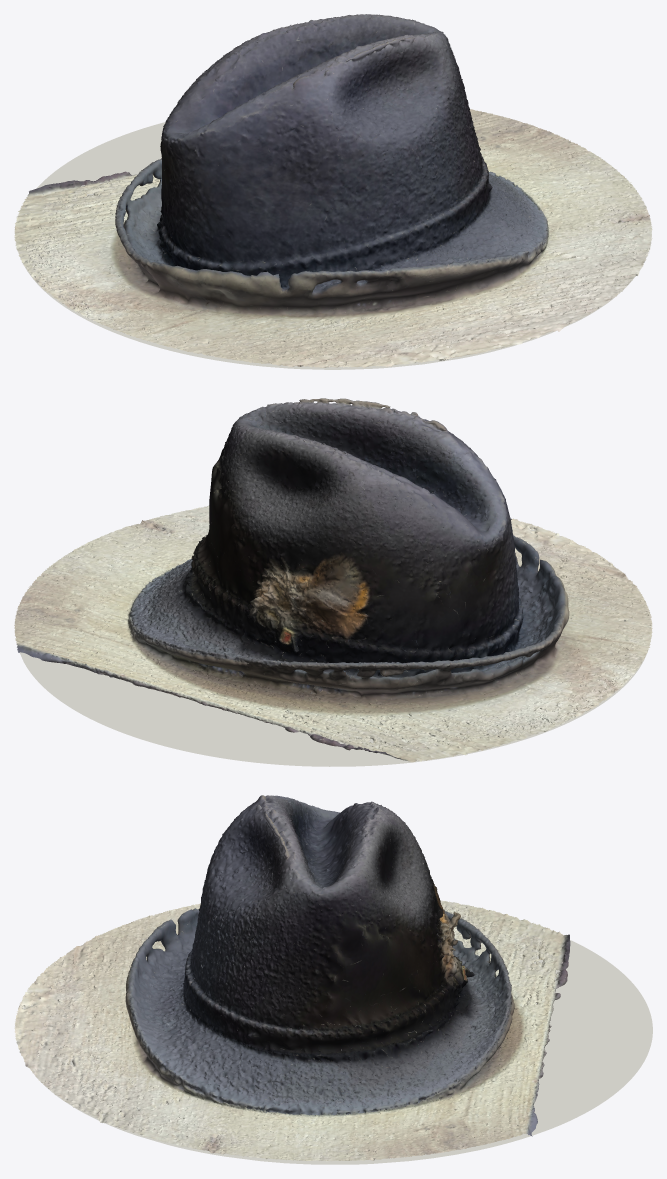
Rendered from sombrero.glb.
The picture shows the model from 3 angles, top to bottom: view 1: azimuth 30°, elevation 25°; view 2: azimuth 150°, elevation 25°; view 3: azimuth 270°, elevation 25°; orthographic projection.
Visible parts, largest first — view 1: objeto, base_rellenada; view 2: objeto, base_rellenada; view 3: objeto, base_rellenada.
Boxes of the visible parts, x1,y1,x2,y2 form: objeto: (14, 14, 652, 367); base_rellenada: (24, 122, 645, 369); objeto: (14, 398, 652, 762); base_rellenada: (19, 529, 648, 766); objeto: (14, 795, 570, 1161); base_rellenada: (23, 940, 652, 1164).
Size of the model in its own units: 0.3857 by 0.1454 by 0.3846.
Materials: 2 (1 with a texture image).
